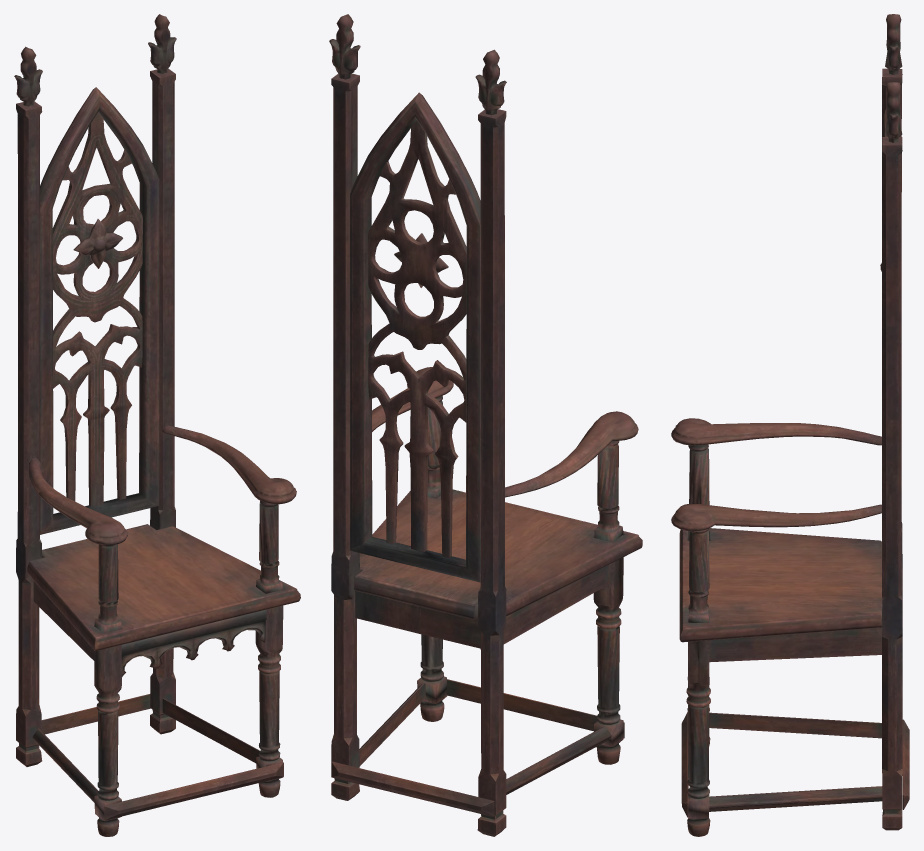
Rendered from throne.glb.
3 renders of one model, left to right at view 1: azimuth 30°, elevation 25°; view 2: azimuth 150°, elevation 25°; view 3: azimuth 270°, elevation 25°, orthographic. The views are drawn at different scales.
Visible parts, largest first — view 1: WoodenChair_01; view 2: WoodenChair_01; view 3: WoodenChair_01.
Part boxes in pixels (x1,y1,x2,y2): WoodenChair_01: (14, 14, 300, 836); WoodenChair_01: (329, 14, 642, 836); WoodenChair_01: (671, 14, 909, 836).
Size of the model in its own units: 0.4992 by 1.65 by 0.4778.
1 material, 1 textured.
